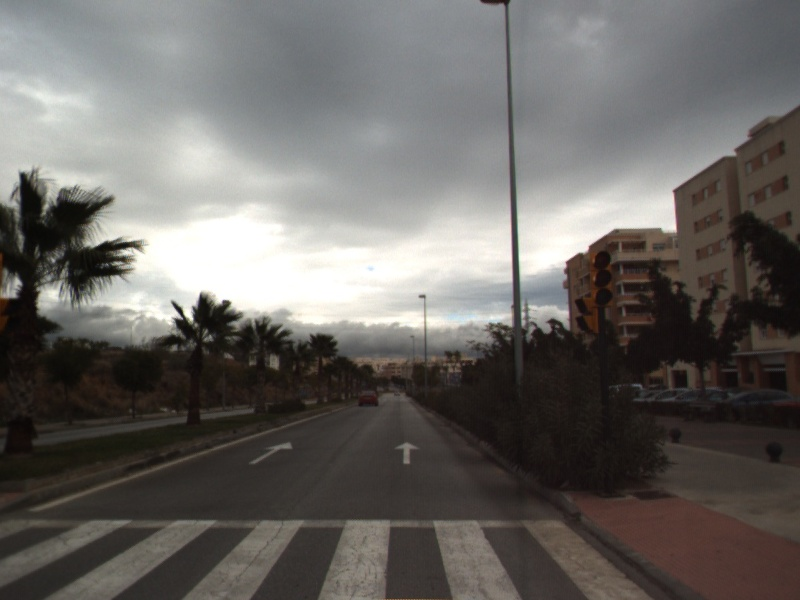STRAIGHT: (247, 440, 295, 466), (393, 440, 422, 466)
